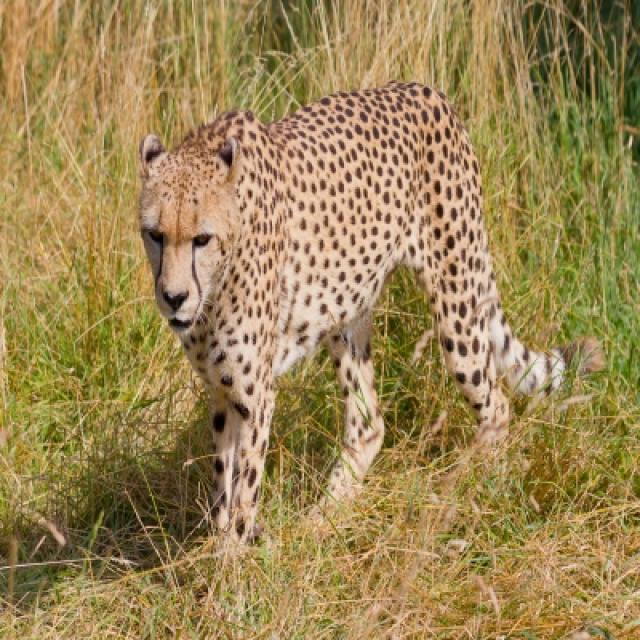Cheetah: (139, 82, 563, 541)
